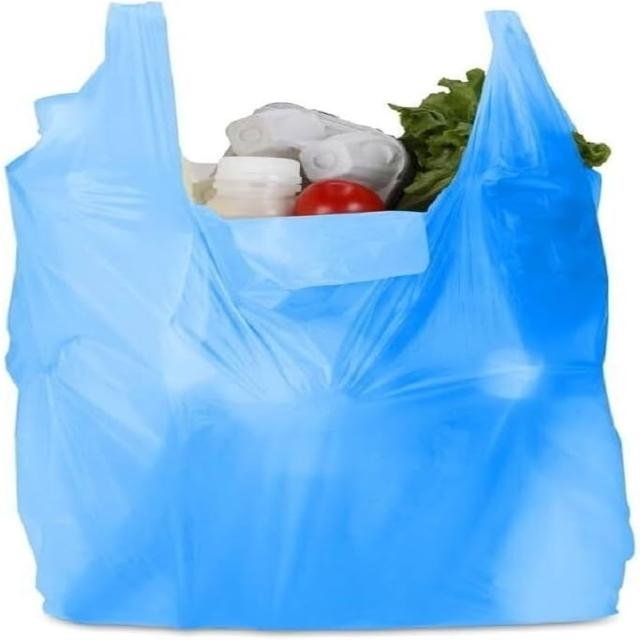plastic_bag: (2, 6, 640, 634)
